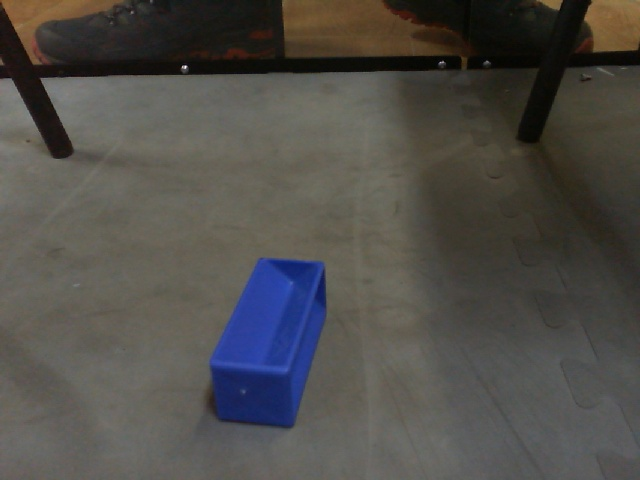BlueSample: (205, 256, 332, 438)
